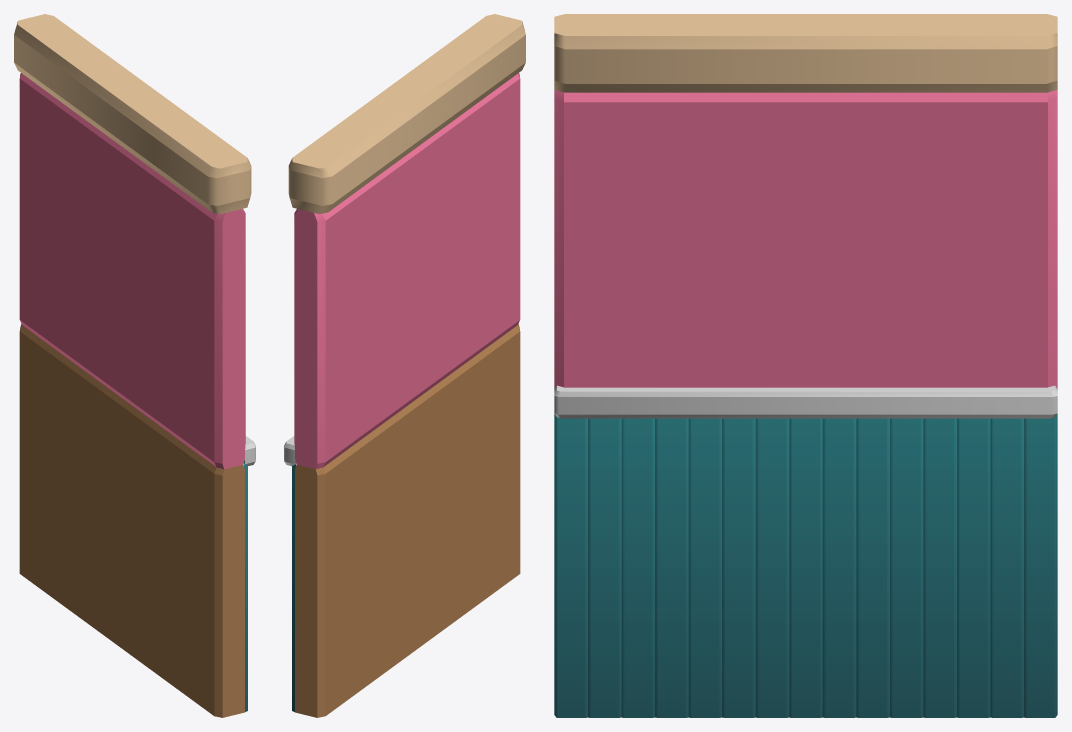
The model's file is Wall_C_9.glb.
3 renders of one model, left to right at view 1: azimuth 30°, elevation 25°; view 2: azimuth 150°, elevation 25°; view 3: azimuth 270°, elevation 25°, orthographic. The views are drawn at different scales.
Parts seen in each view (by area): view 1: Wall_C_9; view 2: Wall_C_9; view 3: Wall_C_9.
Boxes of the visible parts, box(x1,y1,x2,y2) form: Wall_C_9: box(14, 14, 255, 717); Wall_C_9: box(284, 14, 525, 717); Wall_C_9: box(554, 14, 1057, 717).
Bounding box in the file's own units: 0.2614 × 3 × 2.
1 material, 1 textured.
